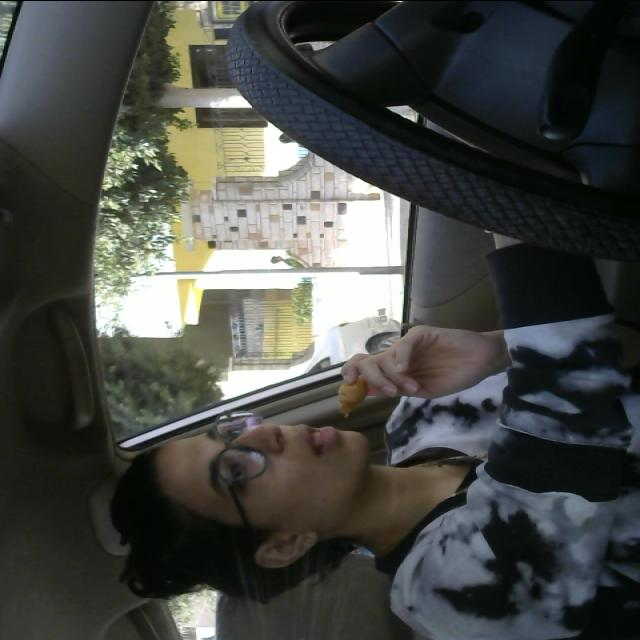eating: (336, 370, 368, 418)
